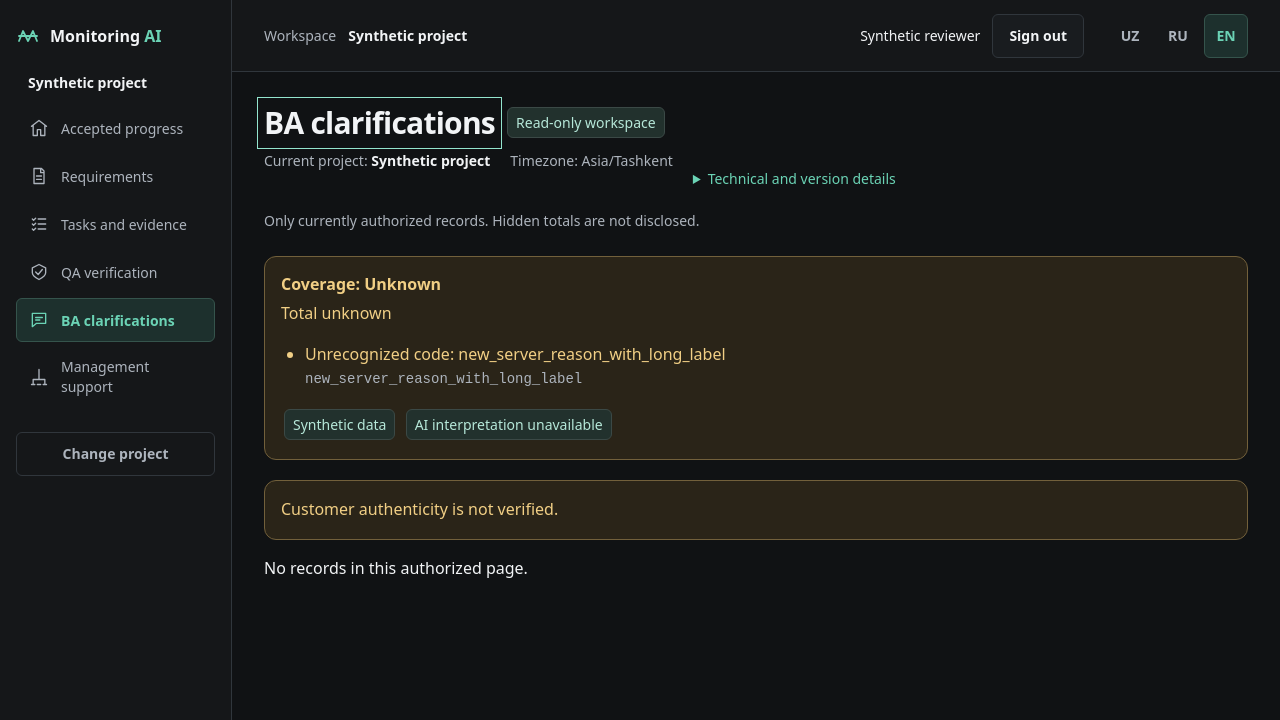
Test: localizes an unknown server reason without turning it into complete coverage
Check: the list item "Unrecognized code: new_server_reason_with_long_label" is shown, box x1=305 y1=344 x2=726 y2=366
Click the button "RU".
click(1178, 36)  # box x1=1156 y1=14 x2=1200 y2=58
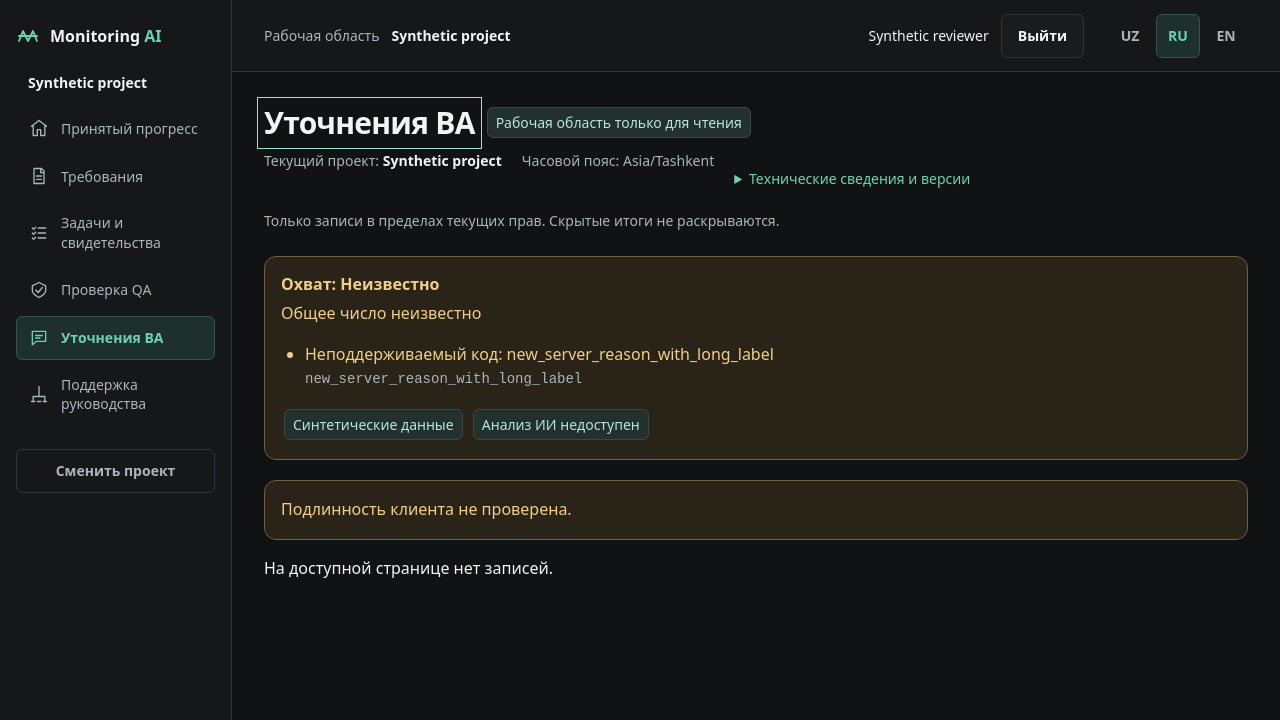
Check: the list item "Неподдерживаемый код: new_server_reason_with_long_label" is shown, box x1=305 y1=344 x2=774 y2=366
Click the button "UZ".
click(1130, 36)  # box x1=1108 y1=14 x2=1152 y2=58
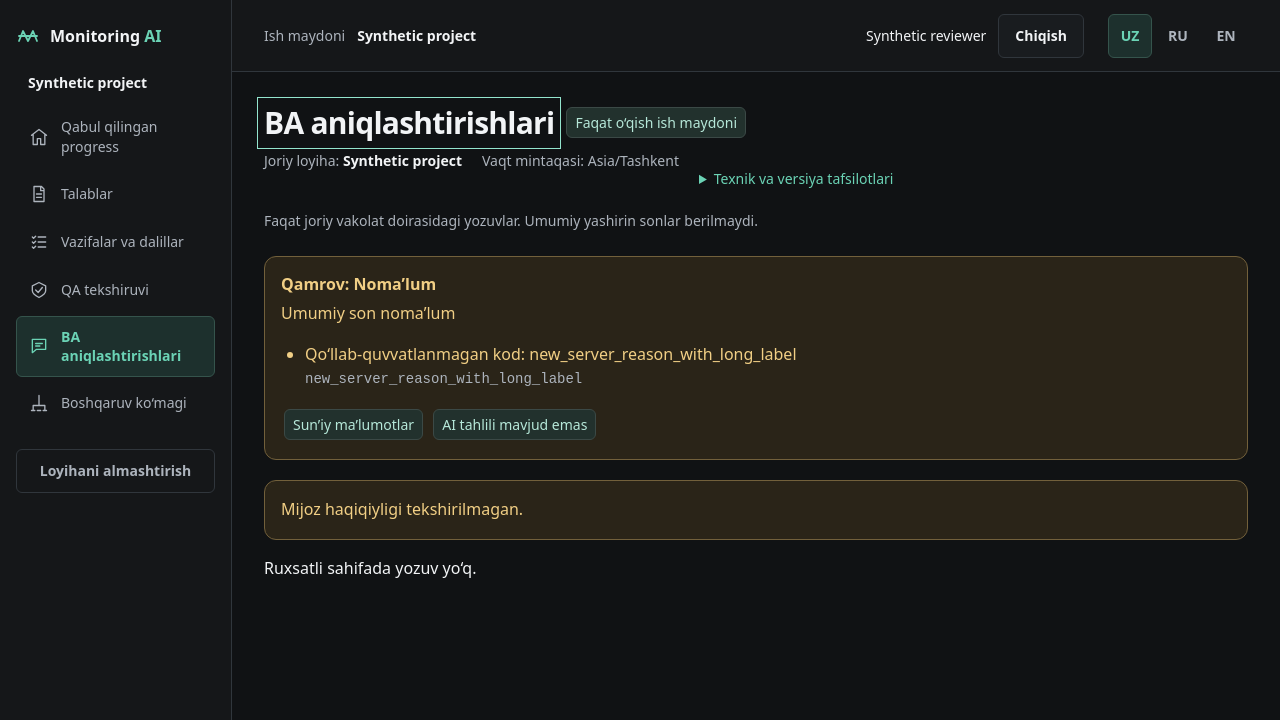
Check: the list item "Qo‘llab-quvvatlanmagan kod: new_server_reason_with_long_label" is shown, box x1=305 y1=344 x2=796 y2=366
